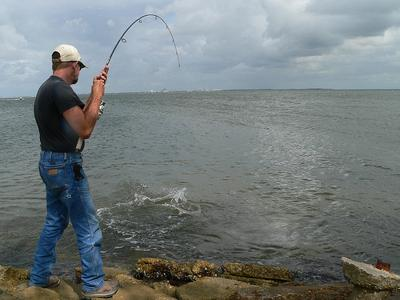person: (29, 44, 120, 298)
